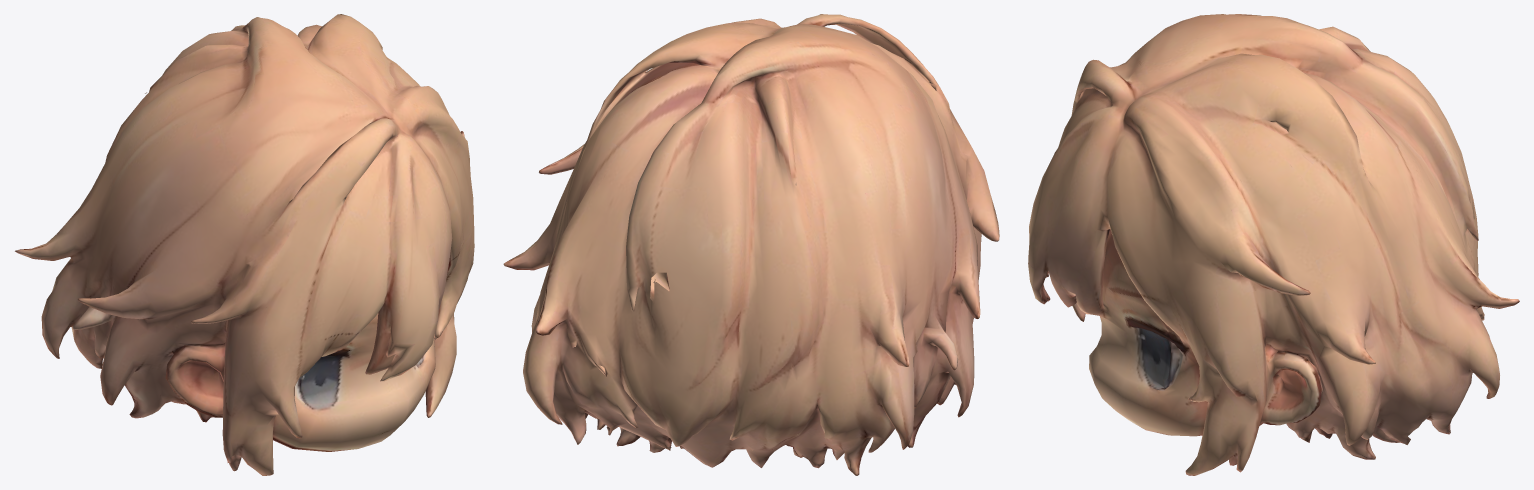
3 views of the same model, side by side, from view 1: azimuth 30°, elevation 25°; view 2: azimuth 150°, elevation 25°; view 3: azimuth 270°, elevation 25° (orthographic). The views are drawn at different scales.
Parts seen in each view (by area): view 1: tripo_node_be2e034b-8e8d-414c-a8ac-245d5968a6f7; view 2: tripo_node_be2e034b-8e8d-414c-a8ac-245d5968a6f7; view 3: tripo_node_be2e034b-8e8d-414c-a8ac-245d5968a6f7.
Part boxes in pixels (bbox=[...]): tripo_node_be2e034b-8e8d-414c-a8ac-245d5968a6f7: bbox=[15, 14, 474, 475]; tripo_node_be2e034b-8e8d-414c-a8ac-245d5968a6f7: bbox=[503, 14, 999, 475]; tripo_node_be2e034b-8e8d-414c-a8ac-245d5968a6f7: bbox=[1028, 14, 1519, 475].
Size of the model in its own units: 0.9639 by 0.8638 by 0.9742.
1 material, 1 textured.
